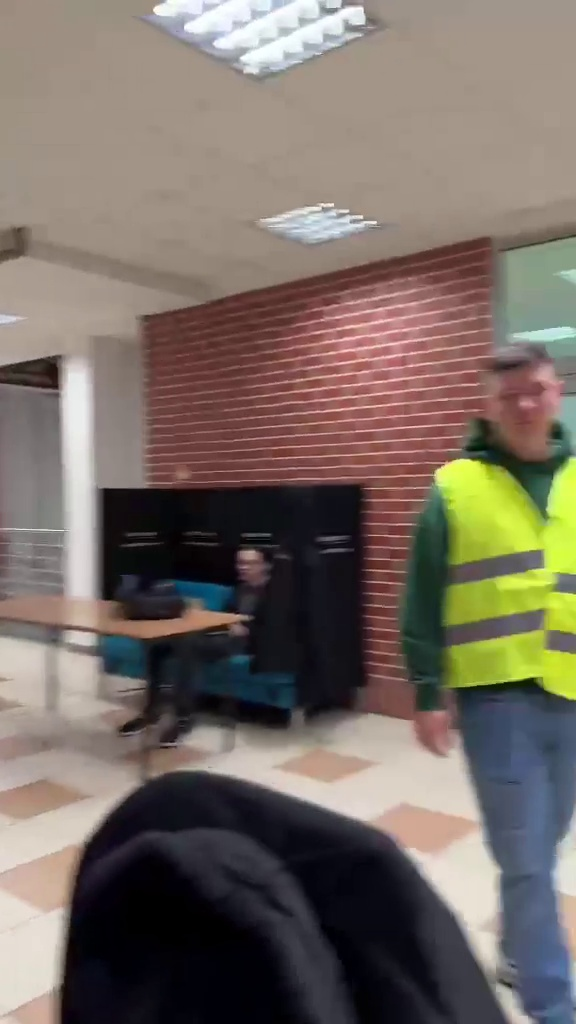no vest: (130, 515, 293, 726)
vest: (407, 338, 576, 992)
